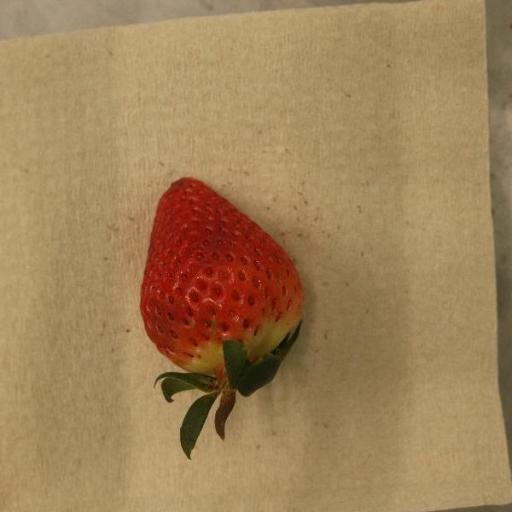Strawberry: (140, 178, 303, 461)
